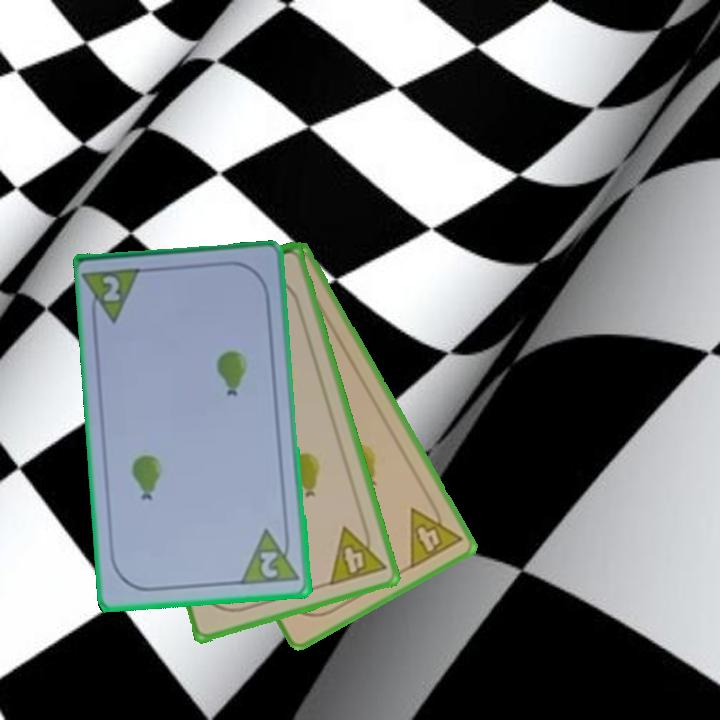2p: (238, 525, 303, 589), (98, 271, 123, 305)
4p: (406, 494, 465, 572), (325, 518, 389, 589)
